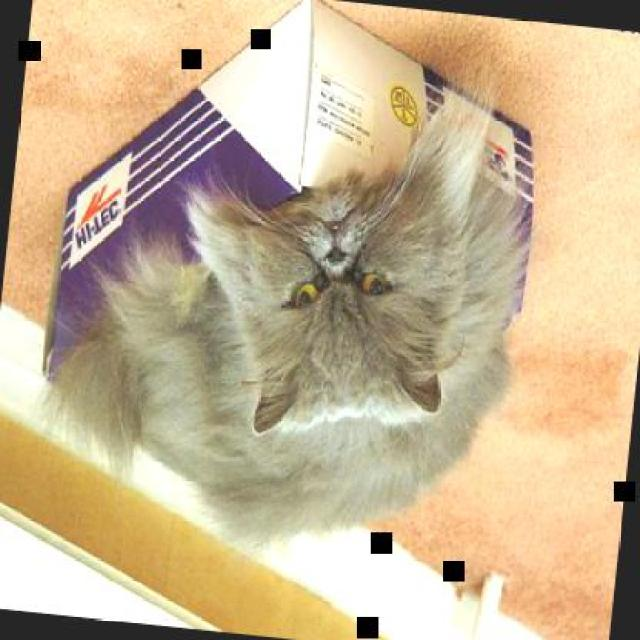cat: (27, 95, 535, 576)
